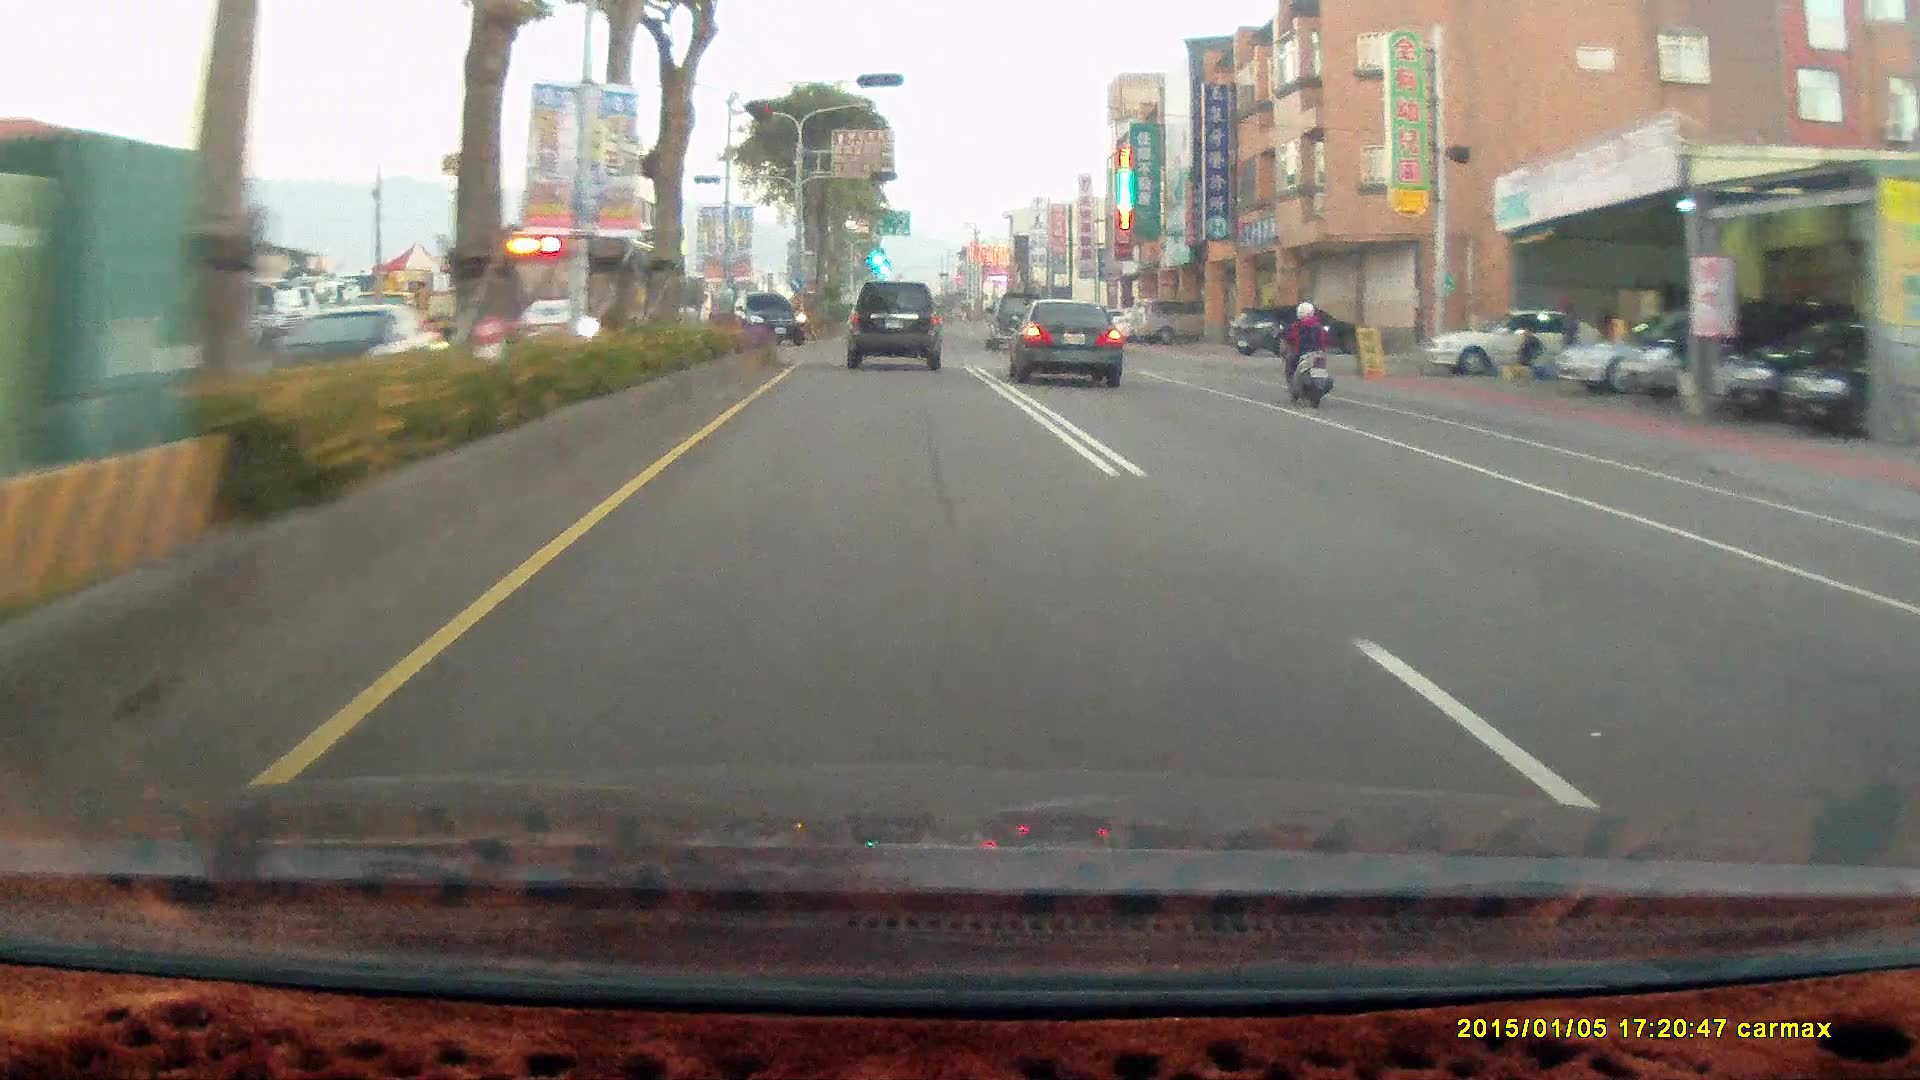pedestrian: (1554, 290, 1578, 369), (1515, 320, 1543, 375)
rider: (1271, 291, 1342, 414), (1275, 292, 1333, 399)
vehicle: (492, 231, 688, 355), (1714, 315, 1920, 419), (1556, 305, 1784, 391), (1621, 298, 1816, 400), (259, 302, 451, 405), (1557, 305, 1781, 392), (1725, 307, 1899, 420), (1787, 319, 1920, 442), (1786, 313, 1920, 434), (1413, 306, 1613, 382), (1423, 305, 1606, 375), (1015, 298, 1133, 394), (1004, 295, 1124, 384), (844, 281, 947, 371), (843, 278, 943, 367), (1228, 304, 1367, 357), (1225, 305, 1357, 358), (724, 290, 807, 349), (1126, 294, 1219, 344), (725, 290, 806, 347), (983, 290, 1048, 348)
